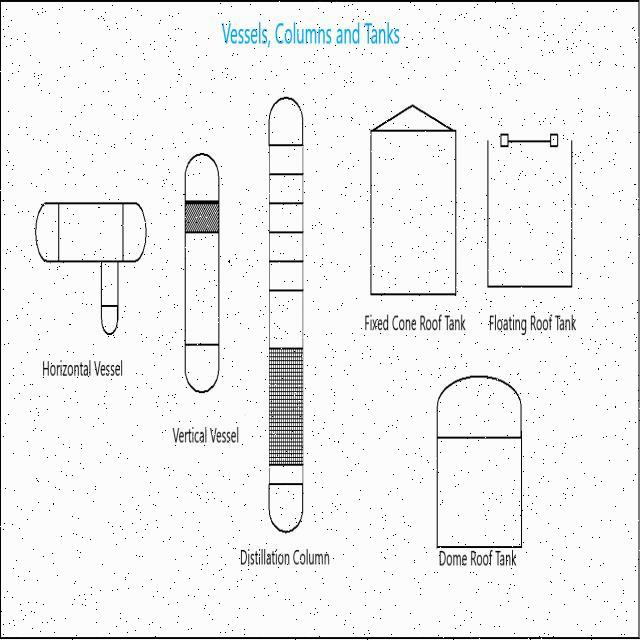Horizontal Vessel: (19, 156, 152, 342)
Vertical Vessel: (177, 132, 234, 414)
